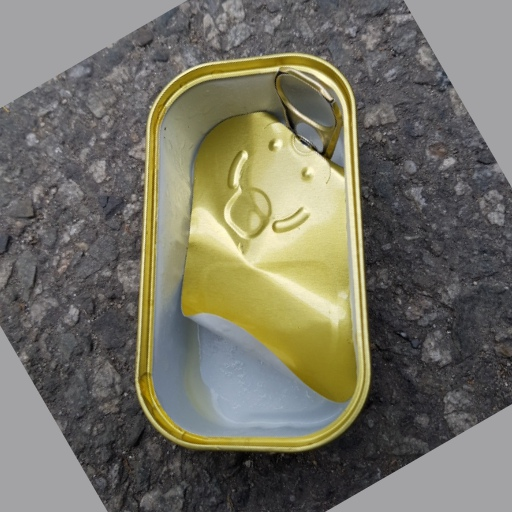Metal_2: (132, 53, 372, 456)
